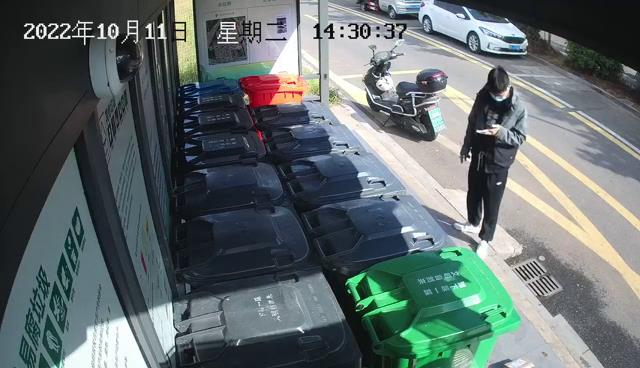person: (452, 64, 528, 260)
